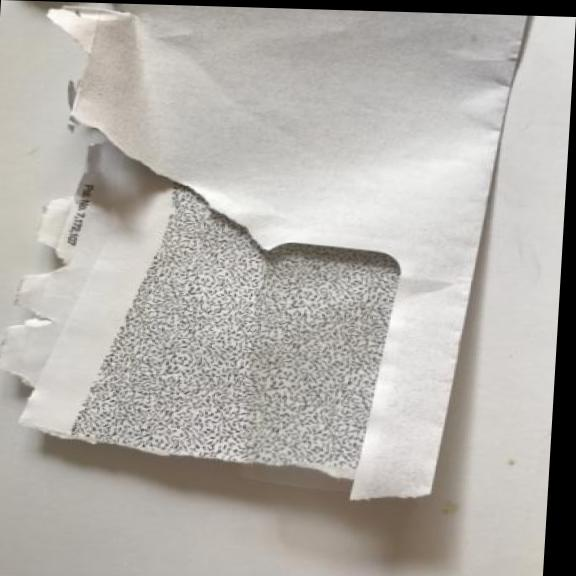Kertas: (0, 0, 540, 509)
